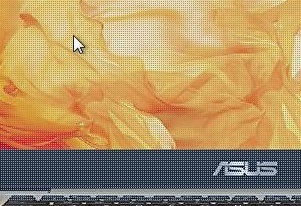cursor: (70, 33, 86, 55)
